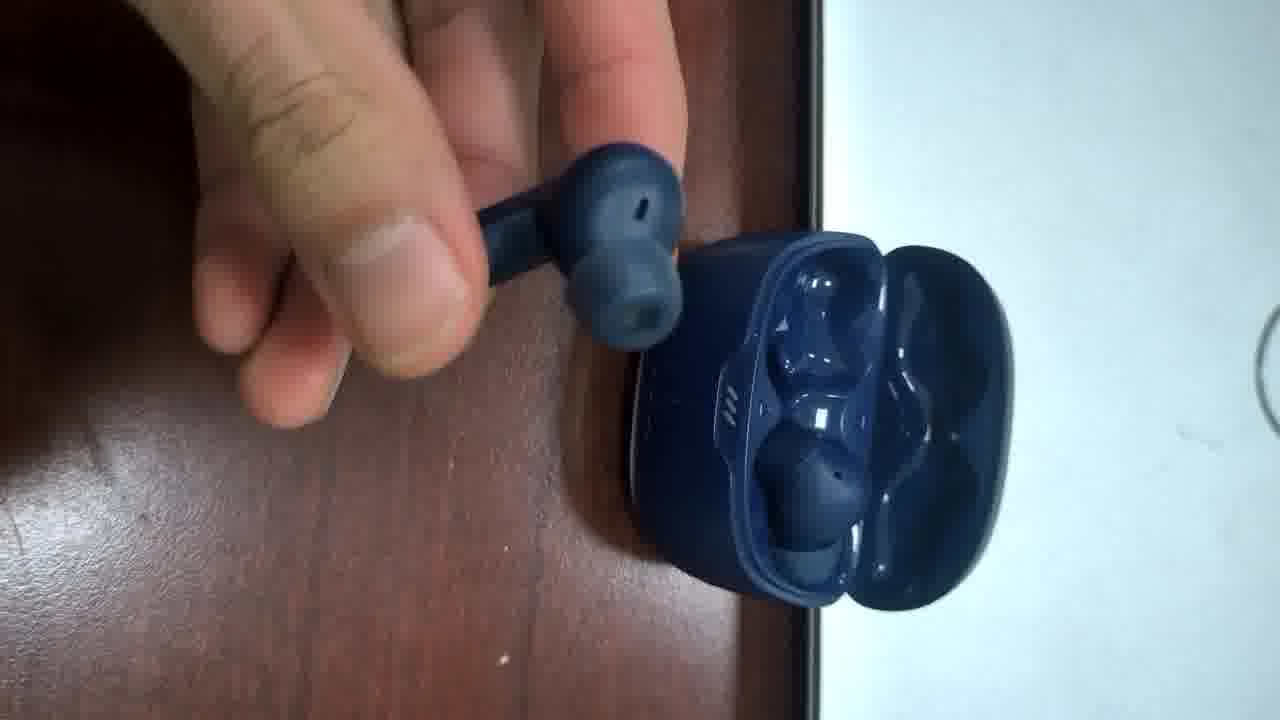Case: (627, 231, 1010, 608)
Earbud: (478, 142, 682, 349), (754, 420, 866, 551)
Empty_Slot: (757, 233, 880, 389)
